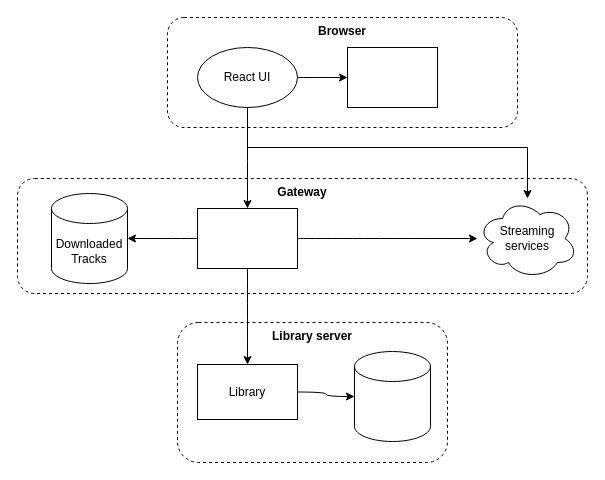
This 605x480 diagram has some shape labels left out. Here are the shapes that lost their labels. From the top down, the centre of each, then its label:
At (392,77): "Decoder".
At (247,238): "Explorer".
At (392,396): "MySQL or SQLite".
